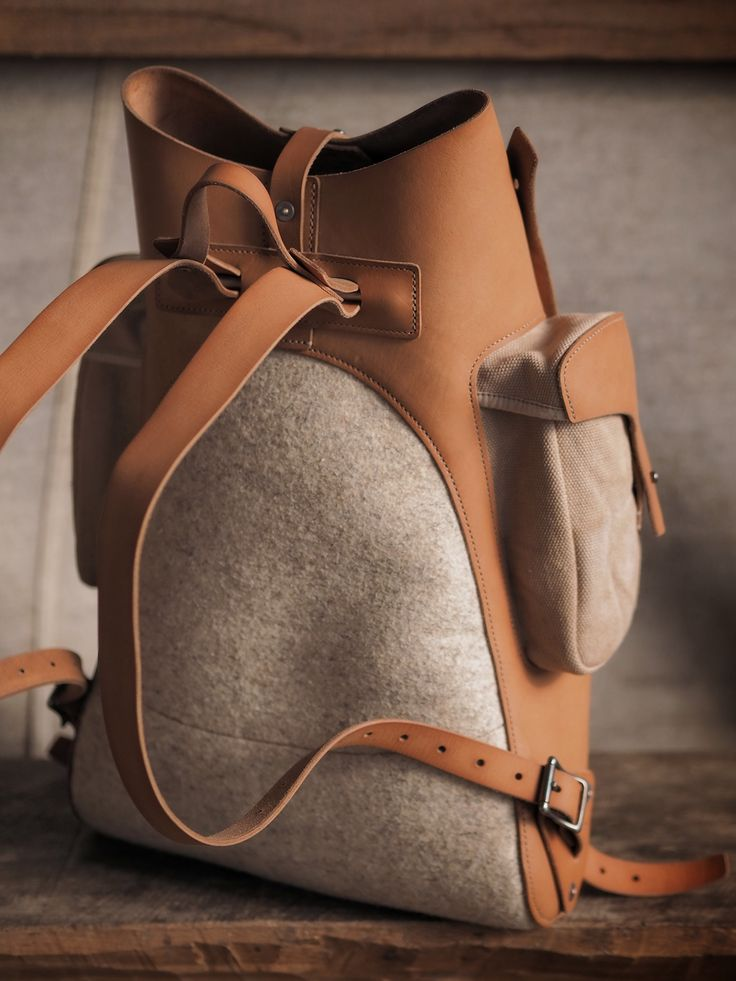cuero: (2, 65, 731, 928)
